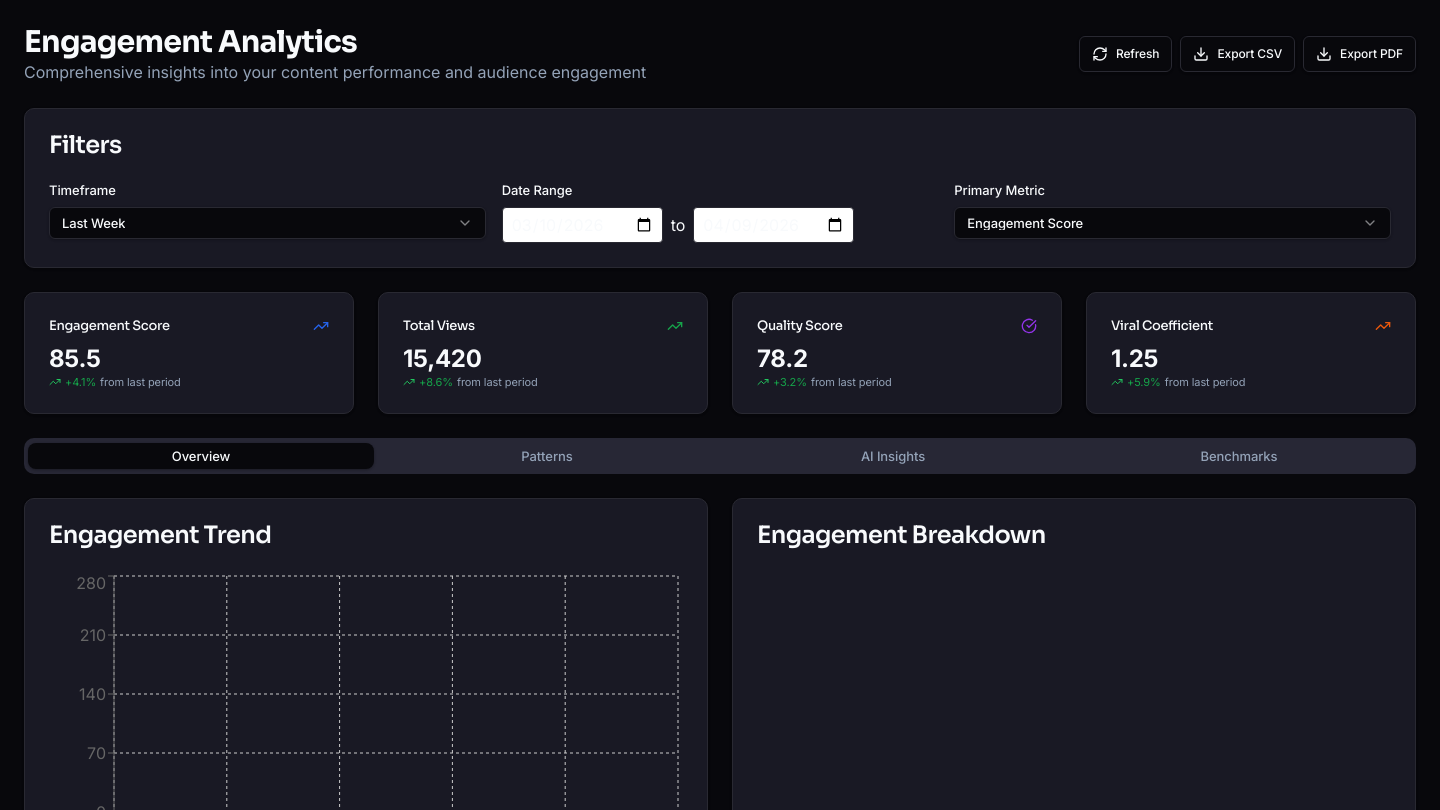
Test: EngagementAnalyticsDashboard › User Interactions › should handle export functionality
The width and height of the screenshot is (1440, 810).
Use fireEvent.click — avoids userEvent getComputedStyle issue with shadcn buttons
Click the button "Export CSV": (1238, 54) [1180,36,1295,72]
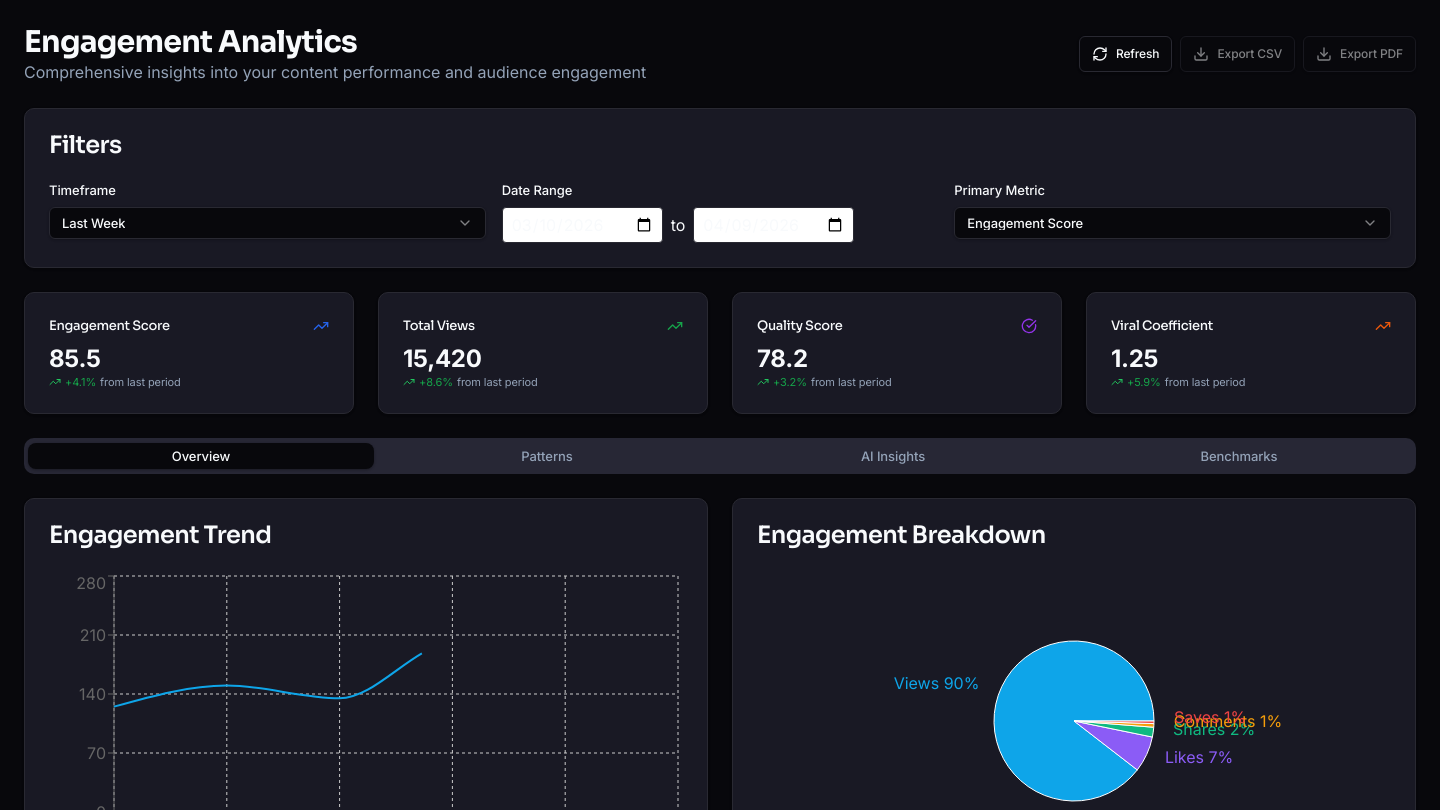
Expected: the button "Export CSV" is disabled, [1180,36,1295,72]
